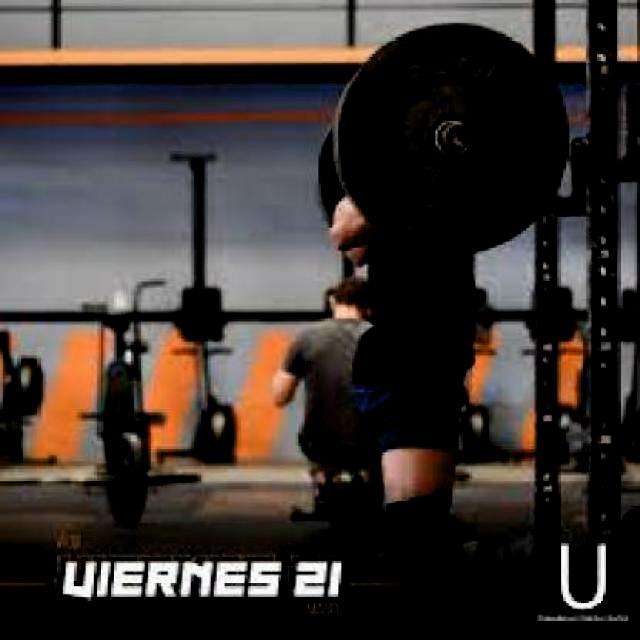barbell: (332, 16, 582, 267)
